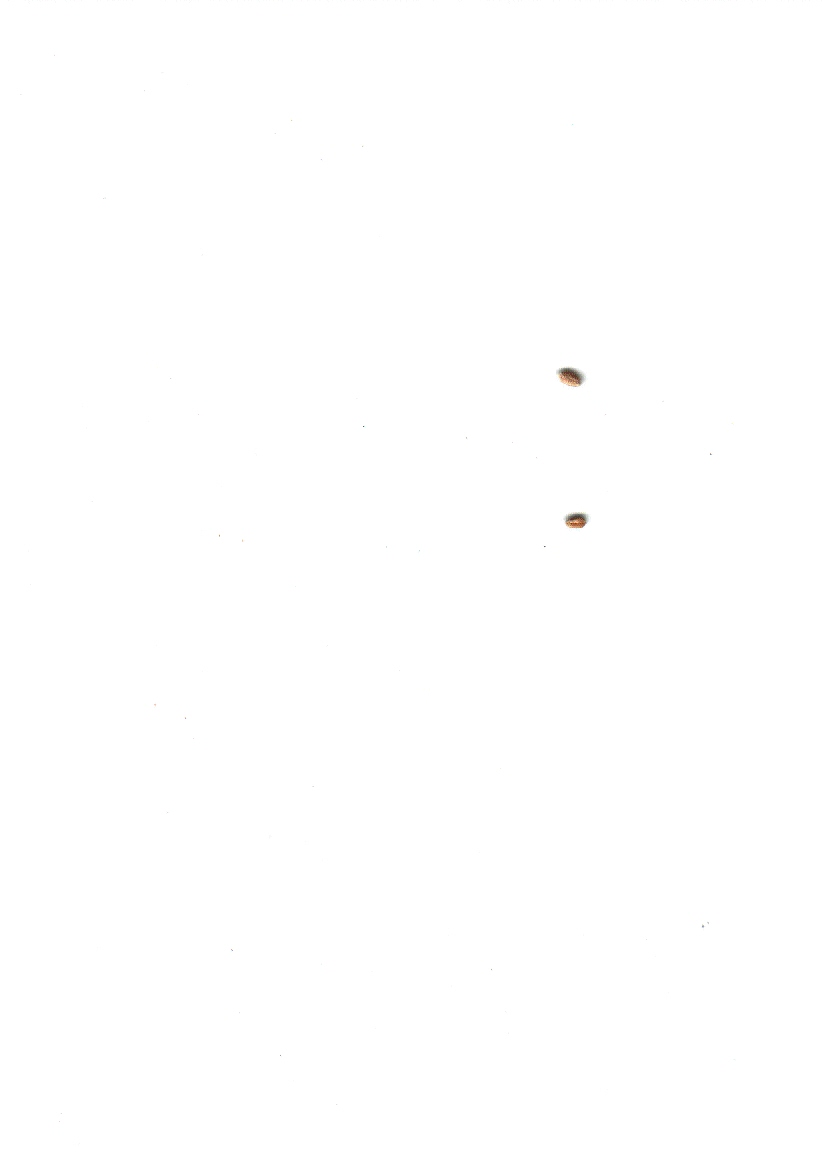grains: (550, 498, 601, 546), (544, 359, 592, 403)
